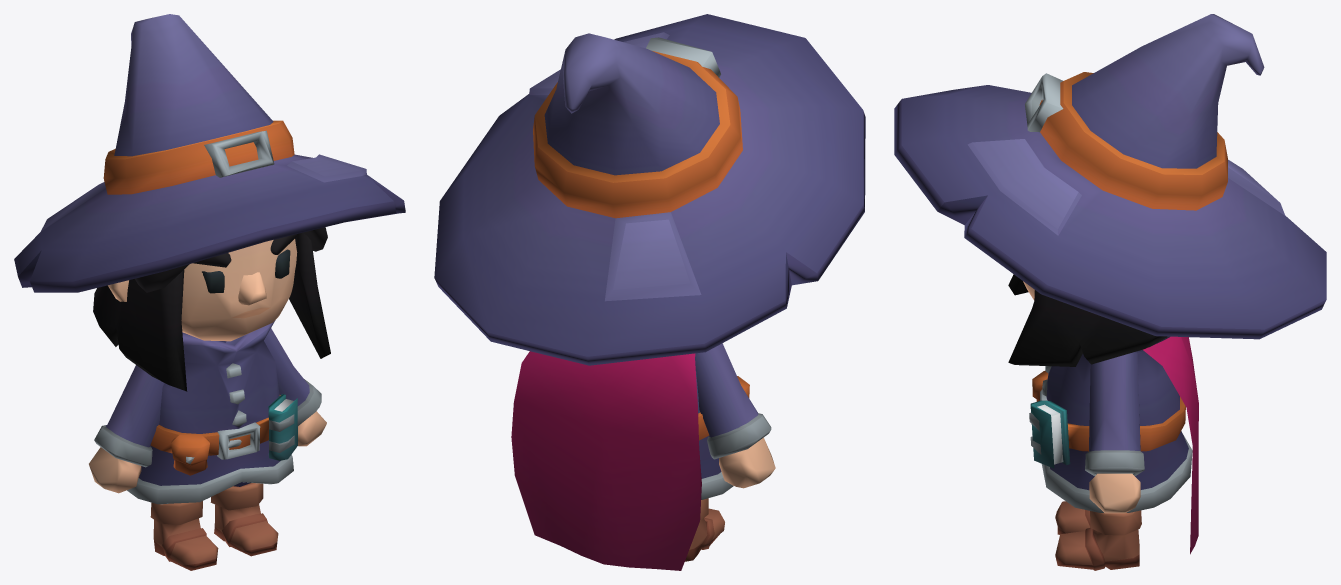
Rendered from hero-nox.glb.
3 renders of one model, left to right at view 1: azimuth 30°, elevation 25°; view 2: azimuth 150°, elevation 25°; view 3: azimuth 270°, elevation 25°, orthographic. The views are drawn at different scales.
Visible parts, largest first — view 1: hero:nox; view 2: hero:nox; view 3: hero:nox.
Part boxes in pixels (bbox=[...]): hero:nox: bbox=[14, 14, 405, 570]; hero:nox: bbox=[434, 14, 865, 570]; hero:nox: bbox=[894, 14, 1326, 570].
Size of the model in its own units: 0.9483 by 1.35 by 1.
1 material, 1 textured.
